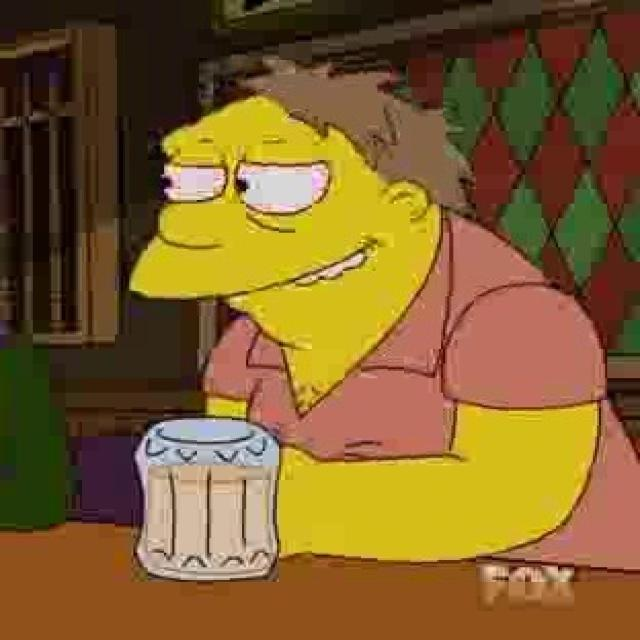Barney Gumble: (125, 50, 486, 375)
